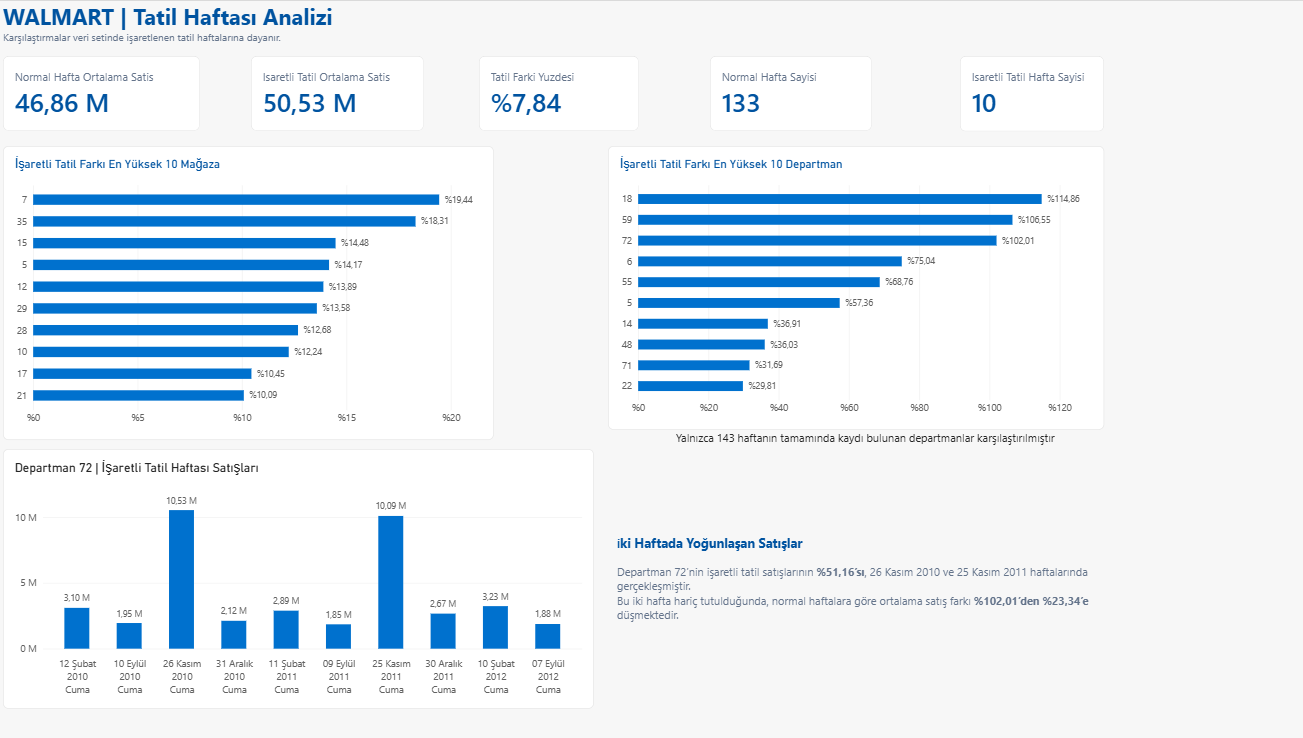

The page's visual inventory and layout, read from the dashboard file:
{"tool":"powerbi","page":{"name":"2. sayfa","canvas":[1920,1080],"ordinal":1},"visuals":[{"type":"cardVisual","fields":{"Data":["WalmartSales.Normal Hafta Ortalama Satis"]},"box":[10.2,80.2,287.4,109.4],"z":0},{"type":"cardVisual","fields":{"Data":["WalmartSales.Isaretli Tatil Ortalama Satis"]},"box":[372,80.2,252.4,109.4],"z":1000},{"type":"cardVisual","fields":{"Data":["WalmartSales.Tatil Farki Yuzdesi"]},"box":[704.7,80.2,233.4,109.4],"z":2000},{"type":"cardVisual","fields":{"Data":["WalmartSales.Normal Hafta Sayisi"]},"box":[1041.7,80.2,236.4,109.4],"z":3000},{"type":"cardVisual","fields":{"Data":["WalmartSales.Isaretli Tatil Hafta Sayisi"]},"box":[1406.4,80.2,210,110],"z":4000},{"type":"clusteredBarChart","title":"İşaretli Tatil Farkı En Yüksek 10 Mağaza","fields":{"Category":["WalmartSales.Store"],"Y":["WalmartSales.Tatil Farki Yuzdesi"]},"box":[10.2,211.6,716.4,428.9],"z":5000},{"type":"textbox","box":[10.2,0,545.7,96.3],"z":6000},{"type":"clusteredBarChart","title":"İşaretli Tatil Farkı En Yüksek 10 Departman","fields":{"Category":["WalmartSales.Dept"],"Y":["WalmartSales.Tam Donem Tatil Farki"]},"box":[892.9,211.6,723.6,414.3],"z":7000},{"type":"clusteredColumnChart","title":"Departman 72 | İşaretli Tatil Haftası Satışları","fields":{"Category":["WalmartSales.Date"],"Y":["WalmartSales.Toplam Satis"]},"box":[10.2,653.6,862.2,379.3],"z":8000},{"type":"textbox","box":[906,777.6,710.5,137.1],"z":8001},{"type":"textbox","box":[882.7,625.9,733.9,40.9],"z":8002}]}

Visuals, with their boxes in screenshot pixels (x1, y1, x2, y2), scaled from the page's 1920x1080 canvas onto the 1303x738 screenshot:
cardVisual - WalmartSales.Normal Hafta Ortalama Satis: l=7, t=55, r=202, b=130
cardVisual - WalmartSales.Isaretli Tatil Ortalama Satis: l=252, t=55, r=424, b=130
cardVisual - WalmartSales.Tatil Farki Yuzdesi: l=478, t=55, r=637, b=130
cardVisual - WalmartSales.Normal Hafta Sayisi: l=707, t=55, r=867, b=130
cardVisual - WalmartSales.Isaretli Tatil Hafta Sayisi: l=954, t=55, r=1097, b=130
"İşaretli Tatil Farkı En Yüksek 10 Mağaza" clusteredBarChart: l=7, t=145, r=493, b=438
textbox: l=7, t=0, r=377, b=66
"İşaretli Tatil Farkı En Yüksek 10 Departman" clusteredBarChart: l=606, t=145, r=1097, b=428
"Departman 72 | İşaretli Tatil Haftası Satışları" clusteredColumnChart: l=7, t=447, r=592, b=706
textbox: l=615, t=531, r=1097, b=625
textbox: l=599, t=428, r=1097, b=456
